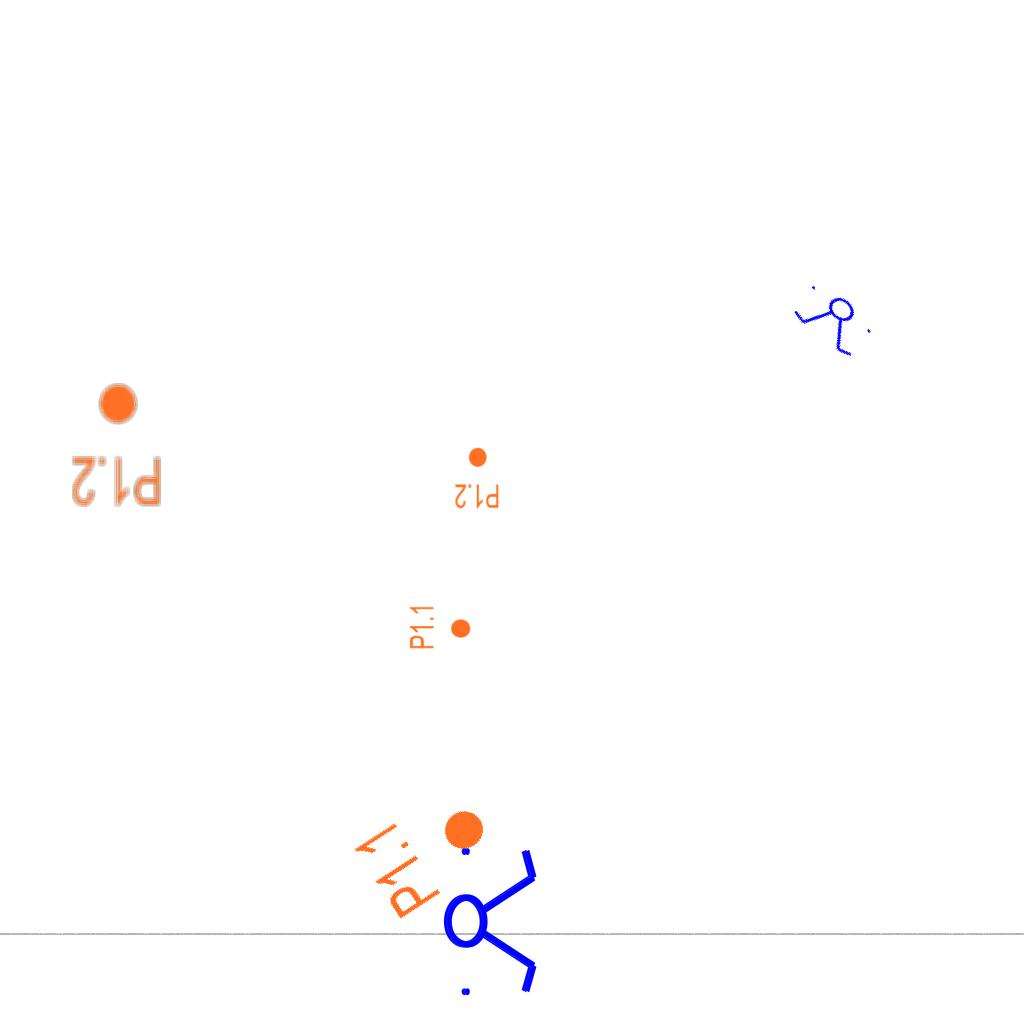Downlight_LED_Einbauleuchten_Flur: (348, 776, 507, 924), (70, 381, 163, 509), (408, 604, 472, 650), (454, 446, 500, 510)
Serienschalter: (442, 836, 538, 1004), (445, 836, 541, 1004), (786, 275, 882, 365)
